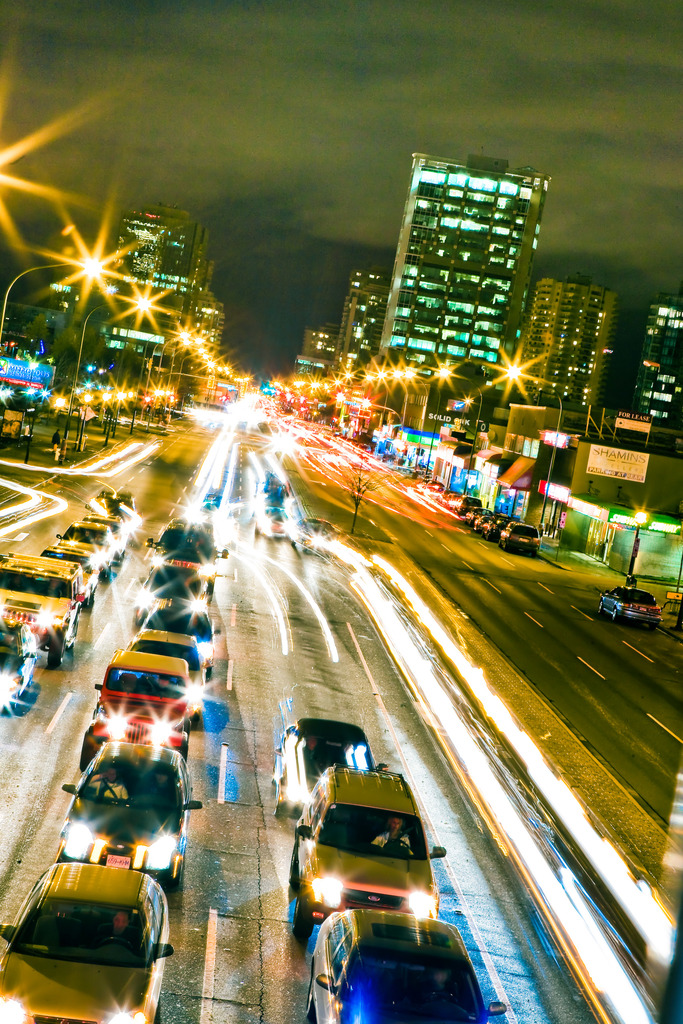mobil: (12, 868, 196, 1024), (295, 764, 438, 933), (287, 911, 498, 1024), (59, 748, 189, 888), (590, 582, 662, 639), (494, 514, 548, 560)
